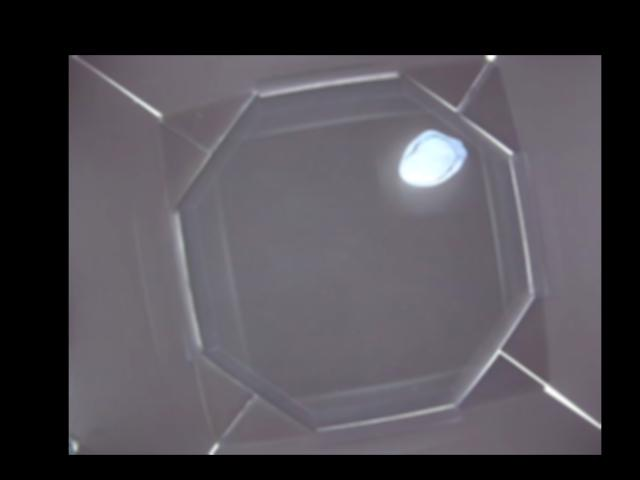Pebble: (396, 128, 467, 186)
